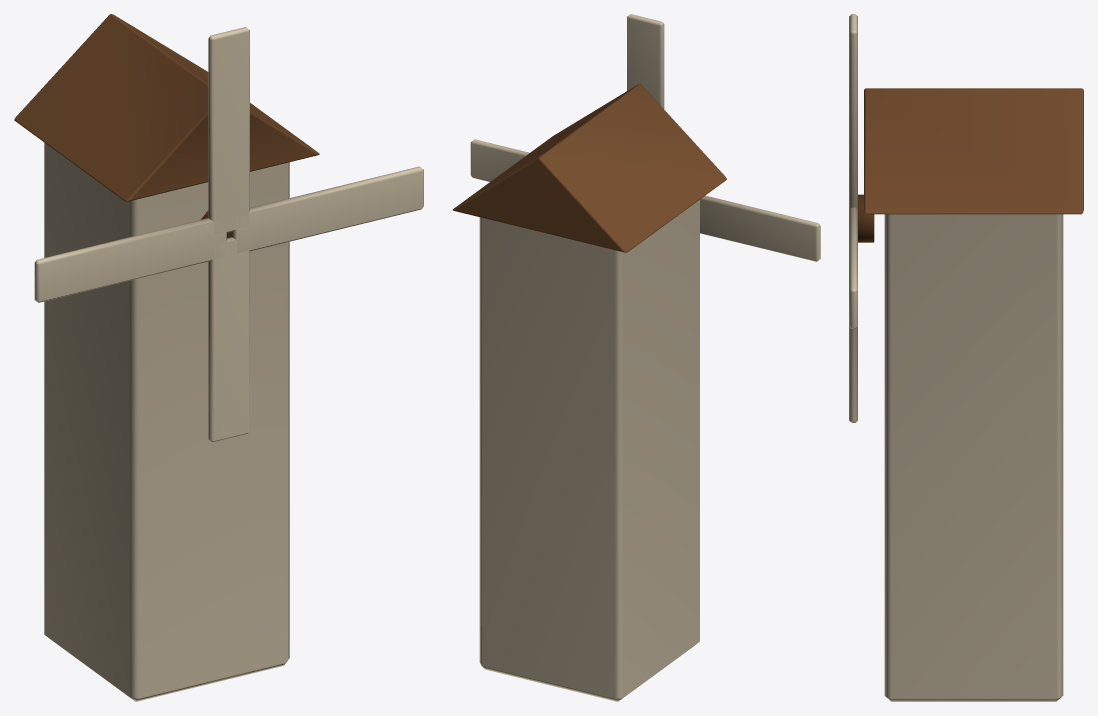
File: windmill.glb
3 renders of one model, left to right at view 1: azimuth 30°, elevation 25°; view 2: azimuth 150°, elevation 25°; view 3: azimuth 270°, elevation 25°, orthographic. The views are drawn at different scales.
Parts seen in each view (by area): view 1: windmill; view 2: windmill; view 3: windmill.
Part boxes in pixels (x1,y1,x2,y2): windmill: [14, 14, 423, 701]; windmill: [452, 14, 820, 701]; windmill: [849, 14, 1083, 701].
Bounding box in the file's own units: 6.3 × 10.35 × 3.42.
